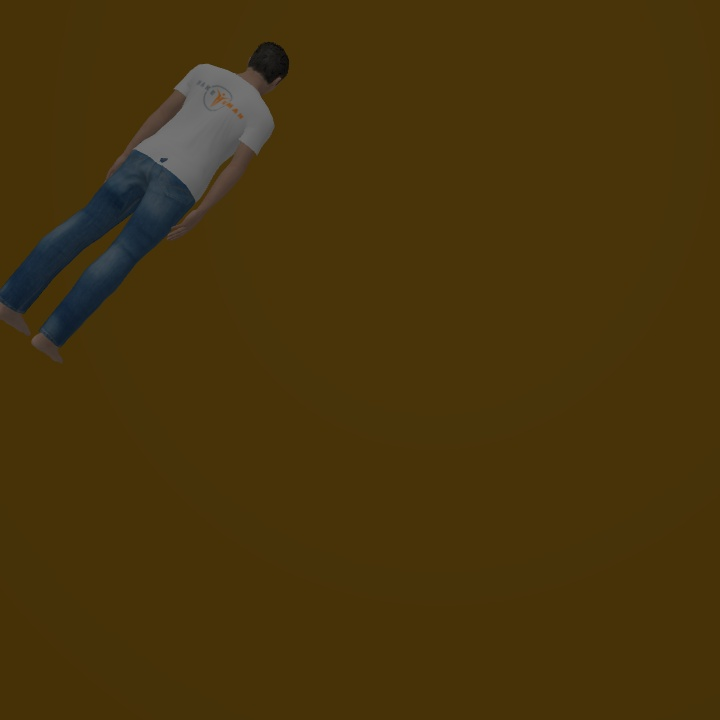victim: (1, 38, 290, 366)
